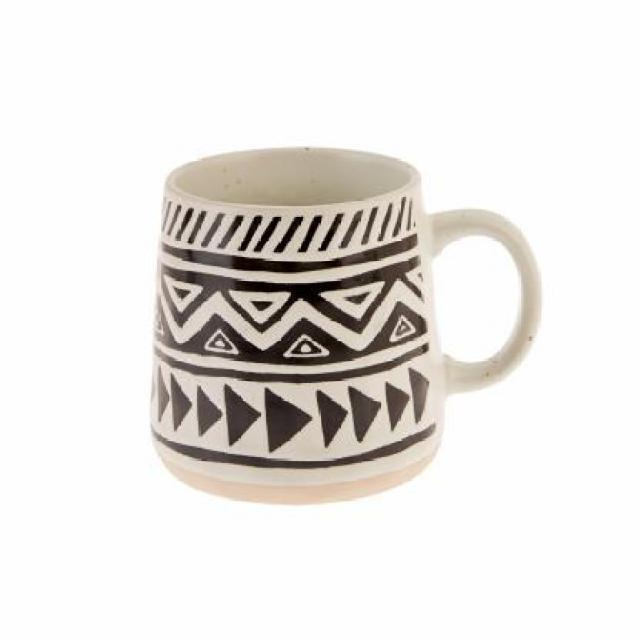taza: (145, 146, 544, 507)
